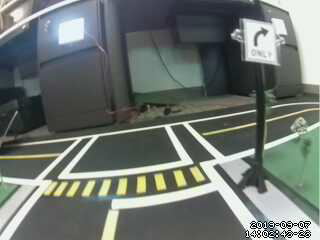Right_only_sign: (243, 20, 276, 65)
